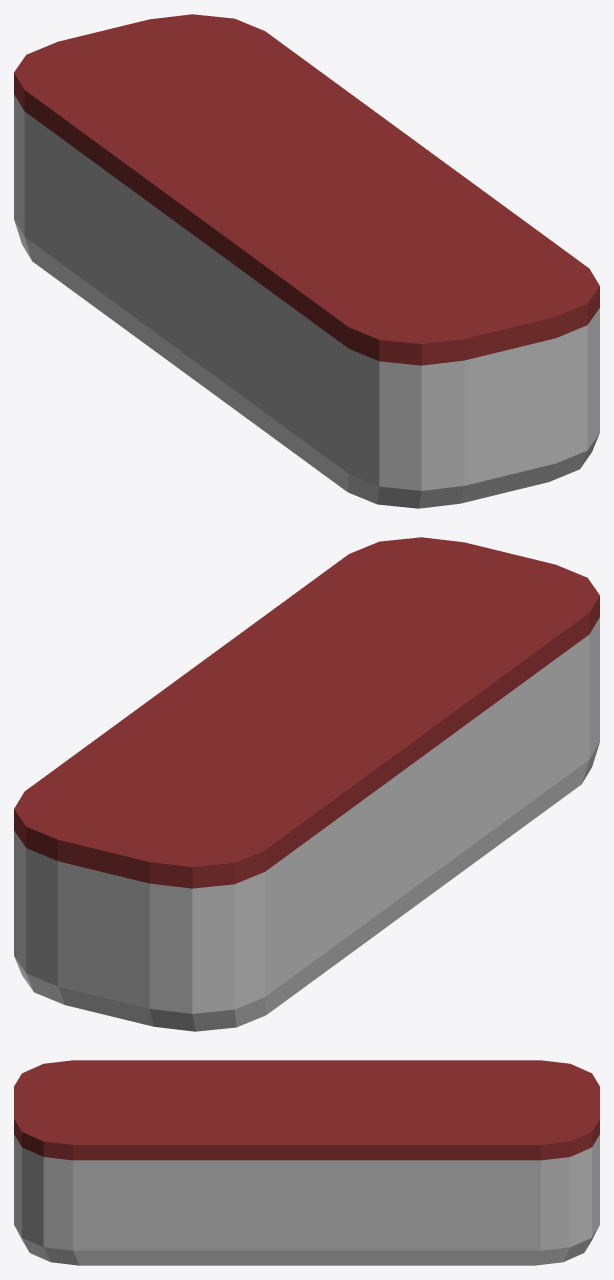
The model's file is Chair_5.fbx.
3 views of the same model, one above another, from view 1: azimuth 30°, elevation 25°; view 2: azimuth 150°, elevation 25°; view 3: azimuth 270°, elevation 25° (orthographic). The views are drawn at different scales.
Parts seen in each view (by area): view 1: Chair_5; view 2: Chair_5; view 3: Chair_5.
Boxes of the visible parts, left/top/right/bottom form: Chair_5: left=14, top=14, right=599, bottom=508; Chair_5: left=14, top=537, right=599, bottom=1031; Chair_5: left=14, top=1060, right=599, bottom=1265.
Bounding box in the file's own units: 0.3034 × 0.2037 × 0.8874.
